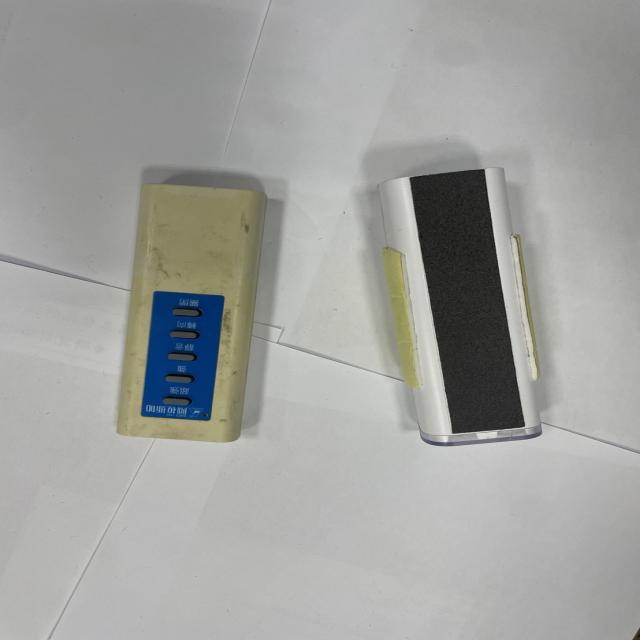remote: (387, 179, 546, 442), (127, 172, 244, 442)
